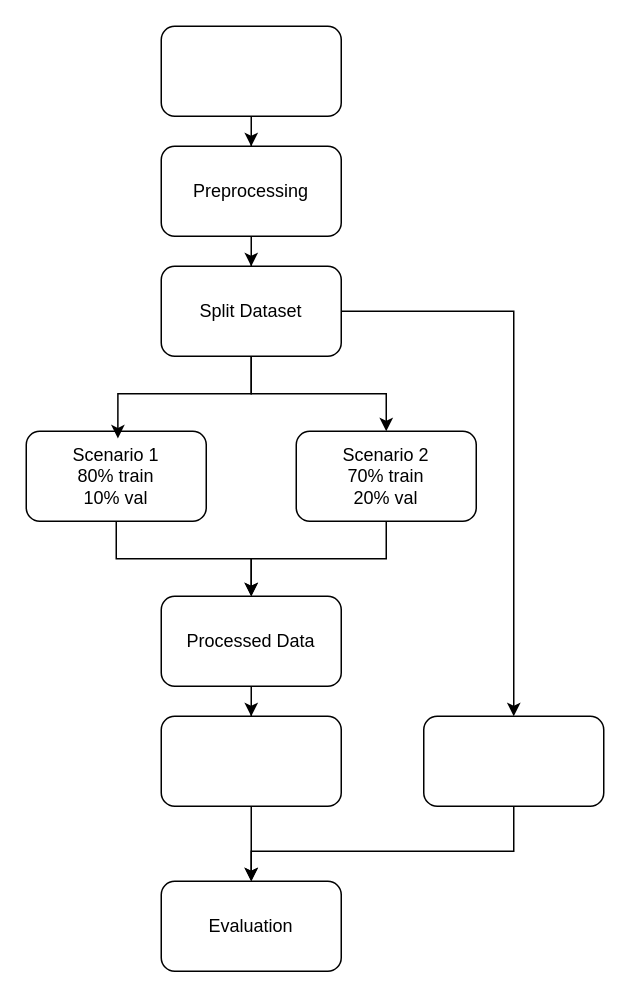
This 630x998 diagram has some shape labels left out. Each missing label, with the centre of its shape:
Dataset: (250,70)
Testing Dataset (10%): (513,760)
Training and Validation: (250,760)
